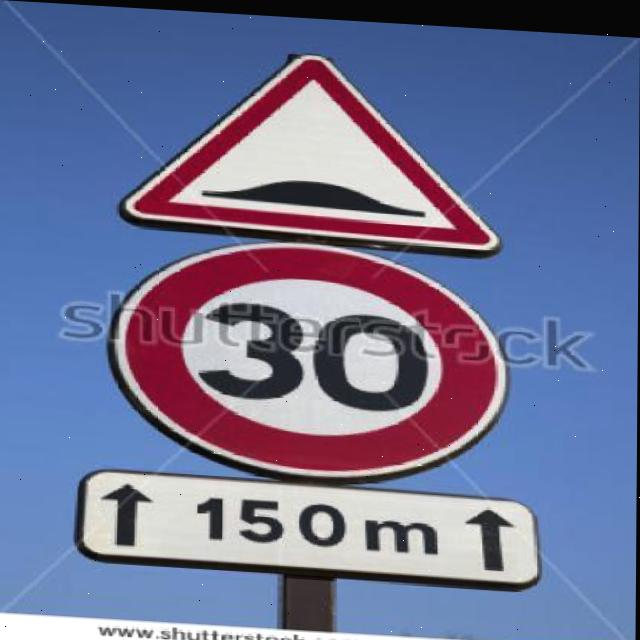Speed limit 30: (105, 228, 513, 488)
